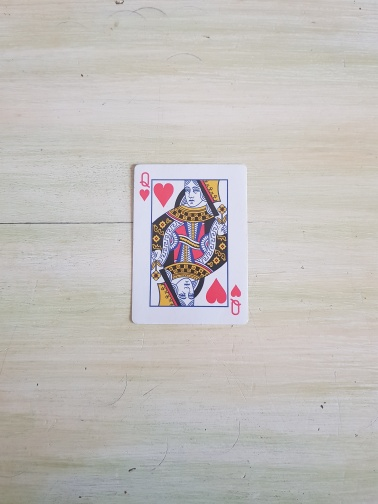queen: (128, 162, 251, 326)
